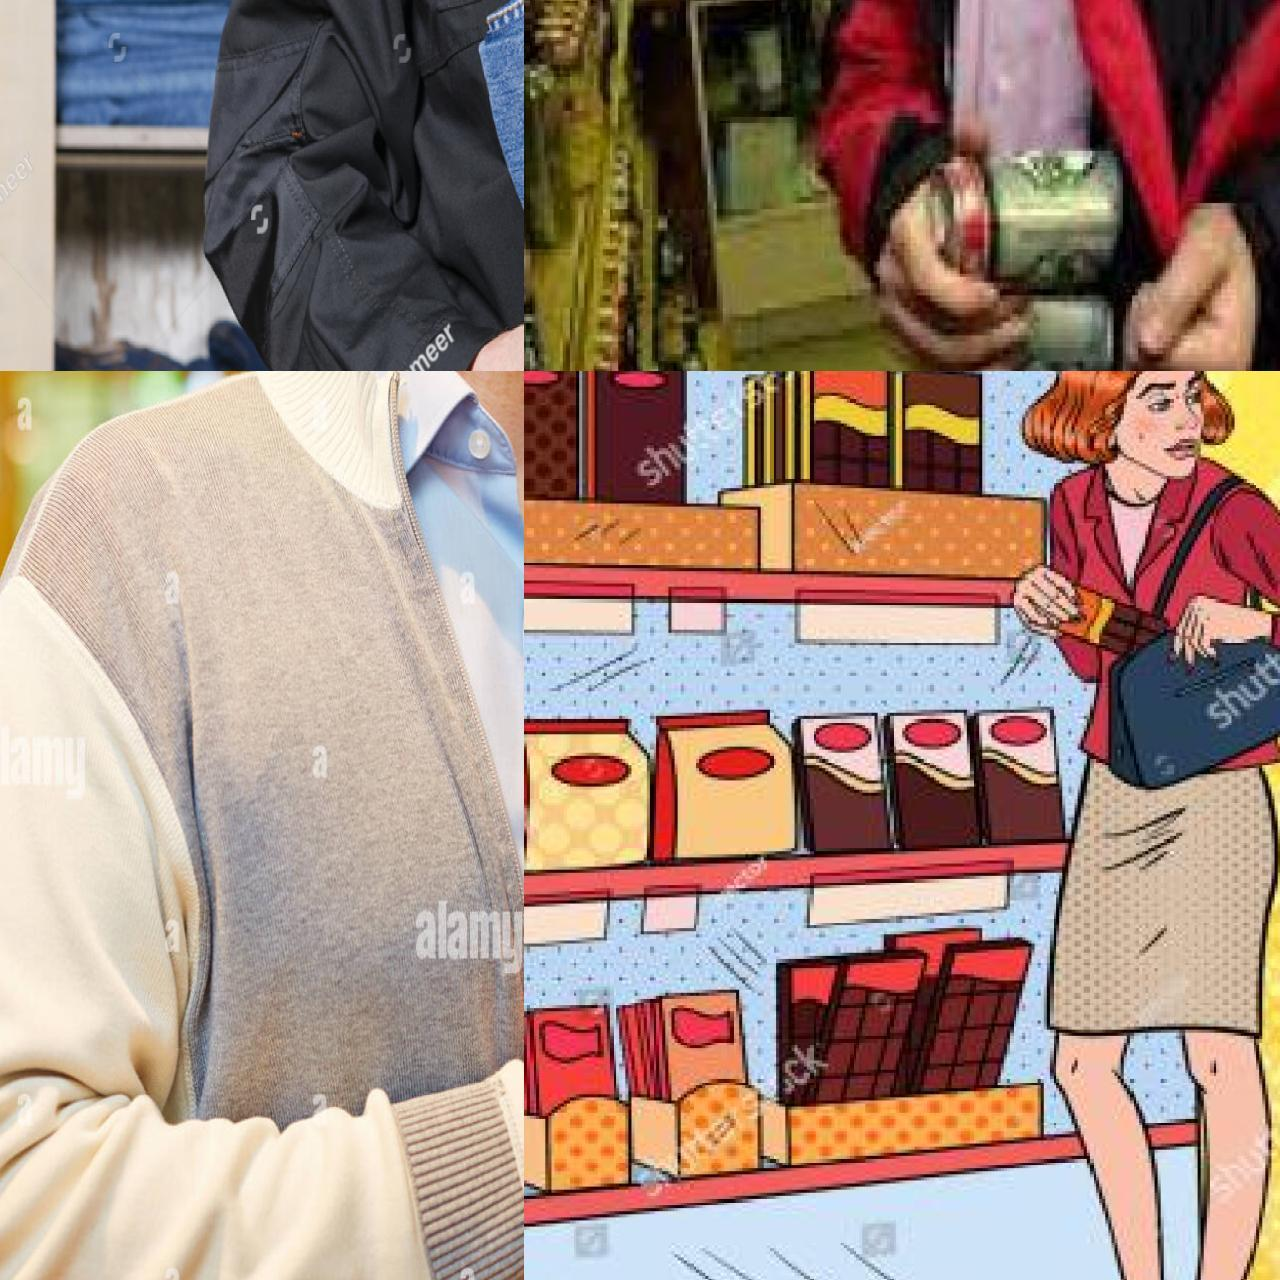Shoplifting: (808, 372, 1280, 1055), (679, 0, 1280, 372), (278, 0, 524, 372)
